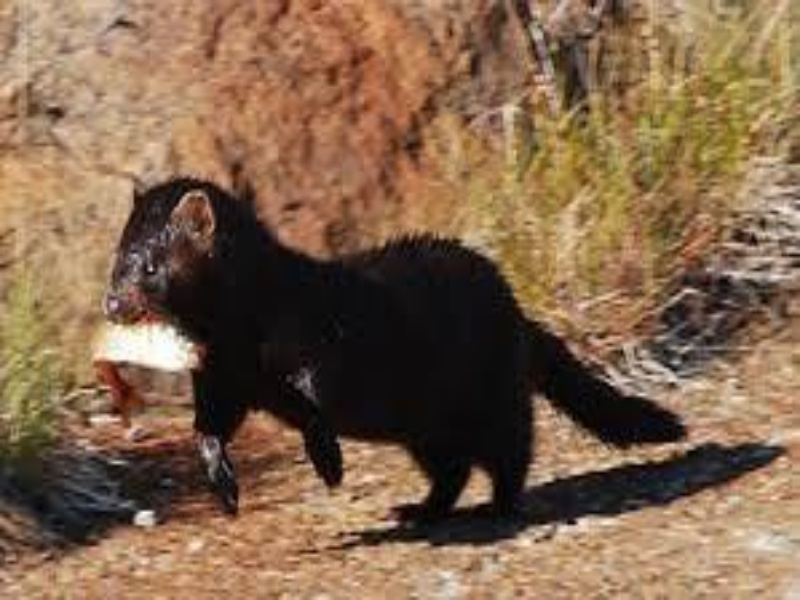minkish: (103, 168, 693, 535)
